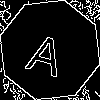A: (25, 25, 70, 77)
